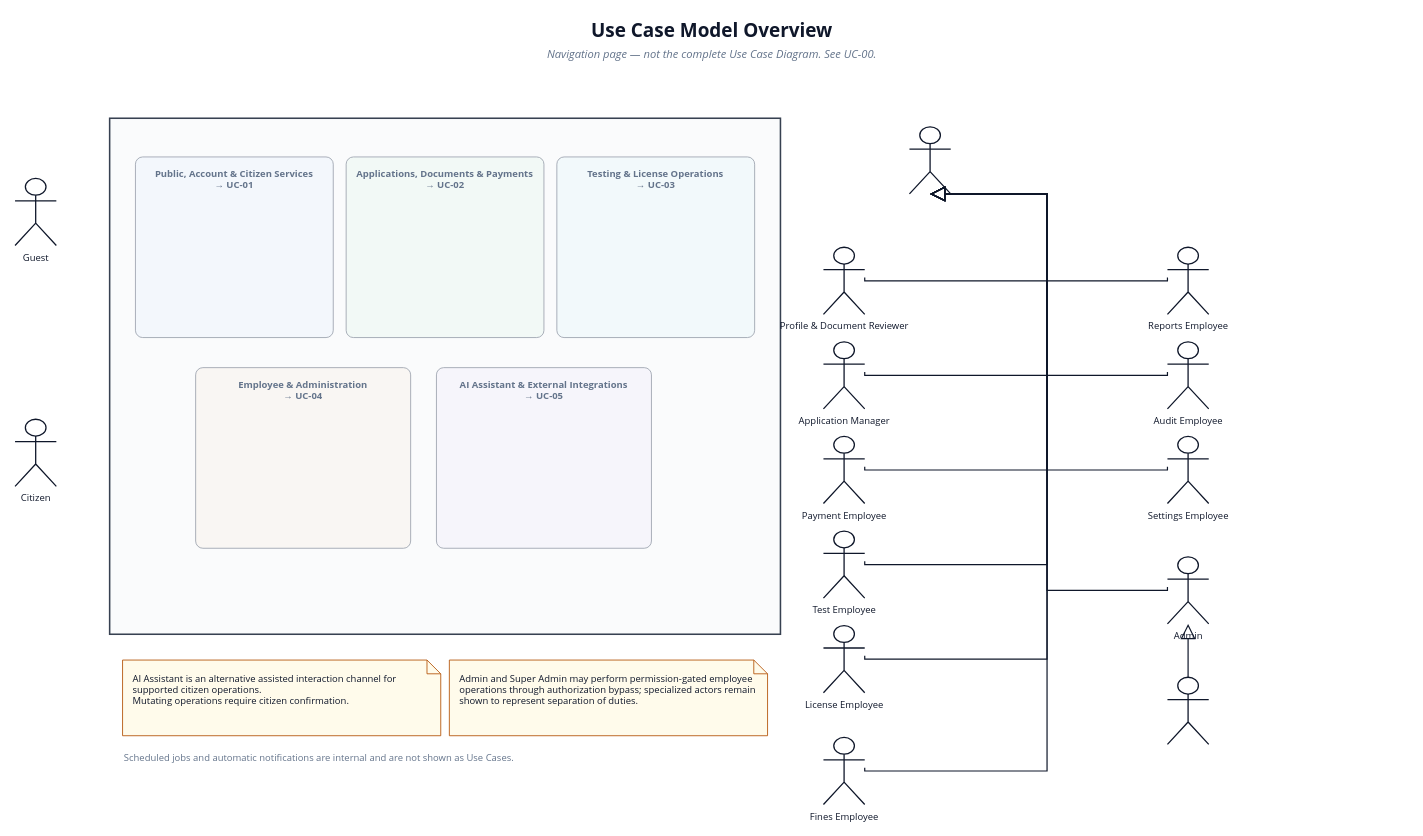
This 1423x836 diagram has some shape labels left out. Each missing label, with the box of its shape:
Employee {abstract}: (908, 126, 951, 194)
Super Admin: (1166, 676, 1209, 745)
SYRTAK / Digital License Management System (DLMS): (108, 117, 781, 635)
